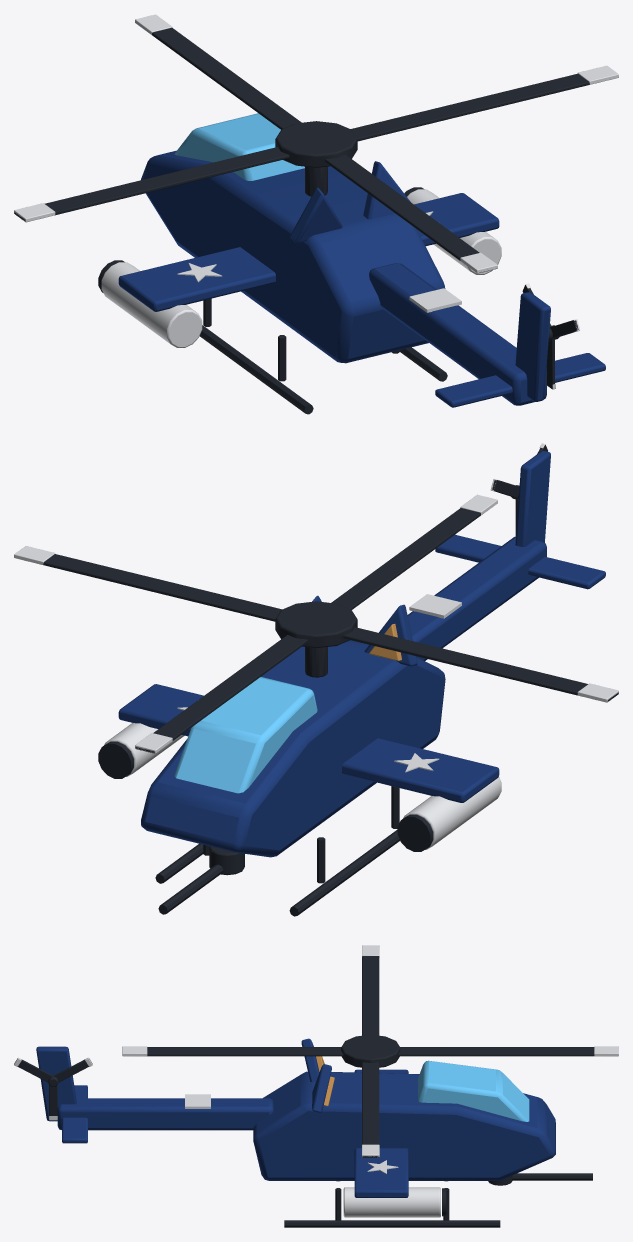
Rendered from shibas_gewitter.glb.
3 renders of one model, top to bottom at view 1: azimuth 30°, elevation 25°; view 2: azimuth 150°, elevation 25°; view 3: azimuth 270°, elevation 25°, orthographic. The views are drawn at different scales.
Visible parts, largest first — view 1: fuselage, rotor_main, tailboom, wing_-1, canopy, pod_-1, rotor_main_hub, fin, stab, wing_1, skid_-1, ear_-1 (+6 smaller); view 2: fuselage, rotor_main, canopy, tailboom, wing_-1, rotor_main_hub, fin, stab, pod_-1, wing_1, skid_-1, pod_1 (+8 smaller); view 3: fuselage, rotor_main, tailboom, canopy, pod_1, wing_1, skid_1, rotor_main_hub, fin, rotor_tail, stab, chin_gun (+1 smaller).
Part boxes in pixels (x1=…): fuselage: x1=141, y1=150, x2=445, y2=363; rotor_main: x1=14, y1=14, x2=618, y2=273; tailboom: x1=369, y1=263, x2=546, y2=405; wing_-1: x1=118, y1=247, x2=275, y2=311; canopy: x1=174, y1=113, x2=304, y2=180; pod_-1: x1=101, y1=262, x2=202, y2=347; rotor_main_hub: x1=275, y1=121, x2=357, y2=167; fin: x1=515, y1=292, x2=550, y2=401; stab: x1=435, y1=353, x2=605, y2=407; wing_1: x1=414, y1=193, x2=499, y2=245; skid_-1: x1=200, y1=325, x2=313, y2=414; ear_-1: x1=290, y1=187, x2=342, y2=243; fuselage: x1=141, y1=640, x2=445, y2=857; rotor_main: x1=14, y1=494, x2=618, y2=753; canopy: x1=174, y1=677, x2=317, y2=793; tailboom: x1=407, y1=536, x2=546, y2=660; wing_-1: x1=342, y1=738, x2=499, y2=802; rotor_main_hub: x1=275, y1=601, x2=357, y2=647; fin: x1=515, y1=451, x2=550, y2=547; stab: x1=435, y1=534, x2=605, y2=589; pod_-1: x1=403, y1=776, x2=501, y2=849; wing_1: x1=118, y1=684, x2=203, y2=736; skid_-1: x1=289, y1=829, x2=399, y2=916; pod_1: x1=104, y1=723, x2=184, y2=776; fuselage: x1=253, y1=1071, x2=555, y2=1180; rotor_main: x1=122, y1=945, x2=618, y2=1157; tailboom: x1=57, y1=1098, x2=273, y2=1130; canopy: x1=418, y1=1060, x2=529, y2=1121; pod_1: x1=343, y1=1187, x2=440, y2=1217; wing_1: x1=354, y1=1148, x2=408, y2=1197; skid_1: x1=284, y1=1220, x2=500, y2=1227; rotor_main_hub: x1=341, y1=1034, x2=400, y2=1067; fin: x1=36, y1=1046, x2=76, y2=1121; rotor_tail: x1=14, y1=1057, x2=92, y2=1120; stab: x1=62, y1=1085, x2=87, y2=1143; chin_gun: x1=512, y1=1173, x2=592, y2=1180.
Size of the model in its own units: 2.3 by 0.803 by 2.8.
